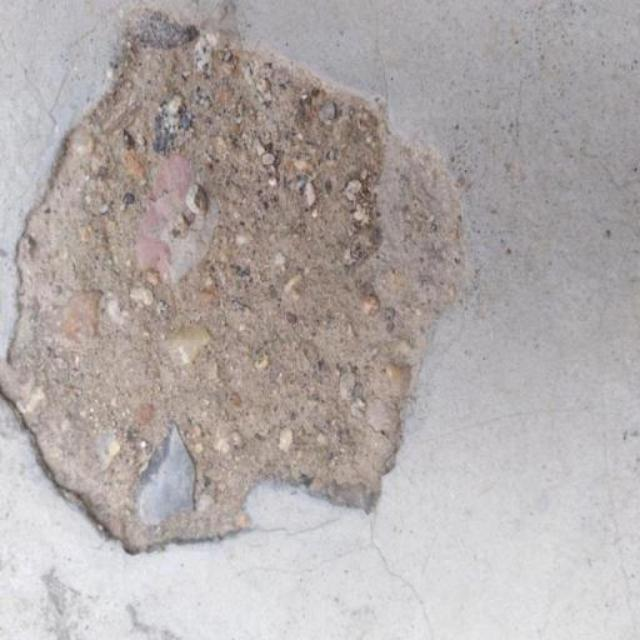D10: (0, 14, 453, 557)
